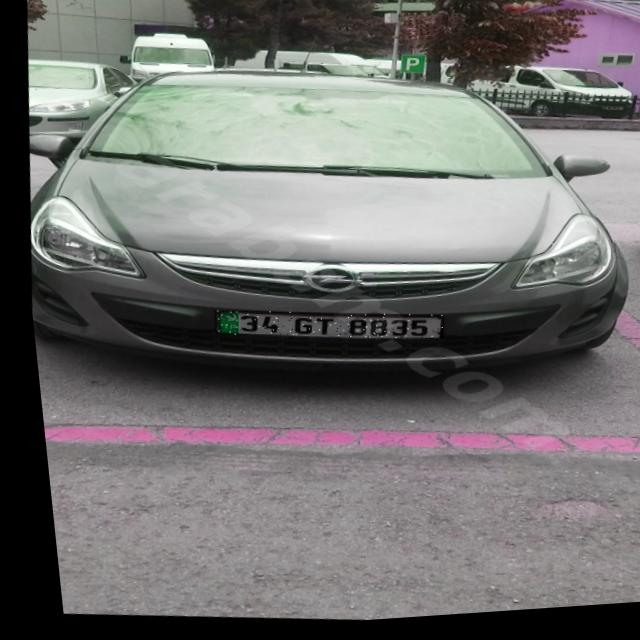license_plate: (206, 301, 437, 357)
